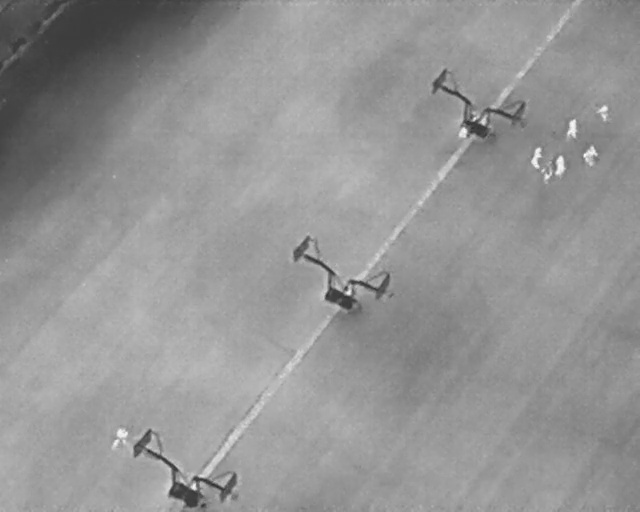Person: (112, 426, 129, 449), (583, 143, 597, 166), (554, 153, 566, 177), (529, 146, 542, 168), (541, 161, 553, 182), (596, 104, 609, 123), (567, 116, 577, 139), (459, 126, 467, 138)
